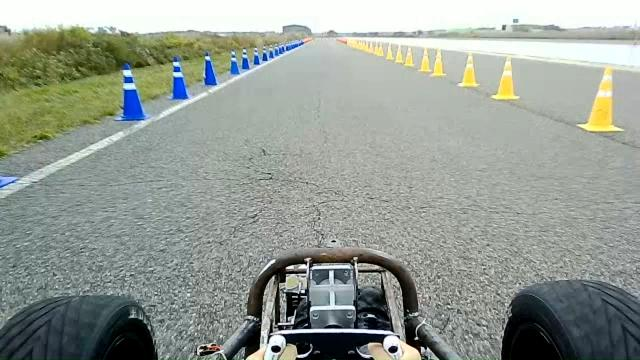blue cone: (114, 62, 150, 121), (168, 56, 190, 100), (202, 50, 218, 86), (229, 49, 240, 75), (240, 47, 250, 70), (252, 47, 260, 66), (261, 45, 268, 62)
yellow cone: (576, 65, 624, 132), (490, 56, 520, 100), (457, 51, 480, 87), (430, 48, 446, 76), (418, 47, 431, 72), (403, 46, 415, 67), (394, 43, 404, 63), (386, 42, 394, 60), (377, 42, 385, 56), (373, 41, 380, 55)
